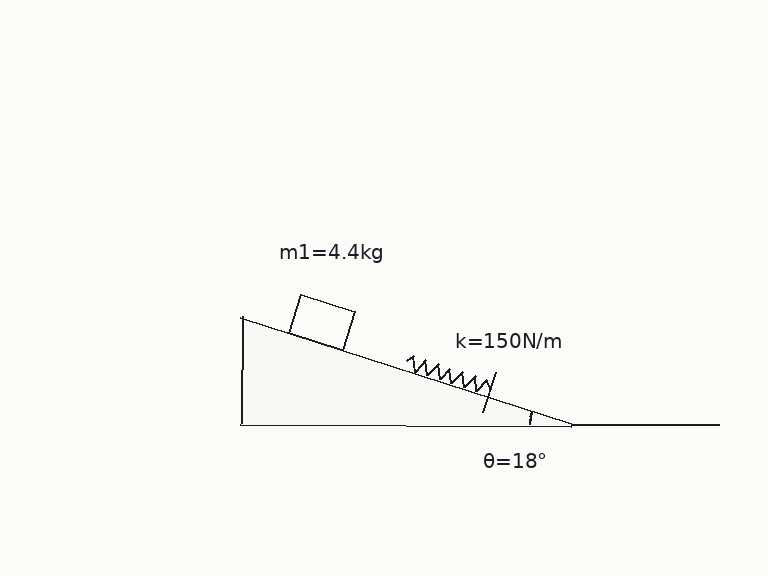block: (286, 292, 356, 352)
ramp: (239, 315, 572, 426)
spring: (403, 354, 493, 393)
